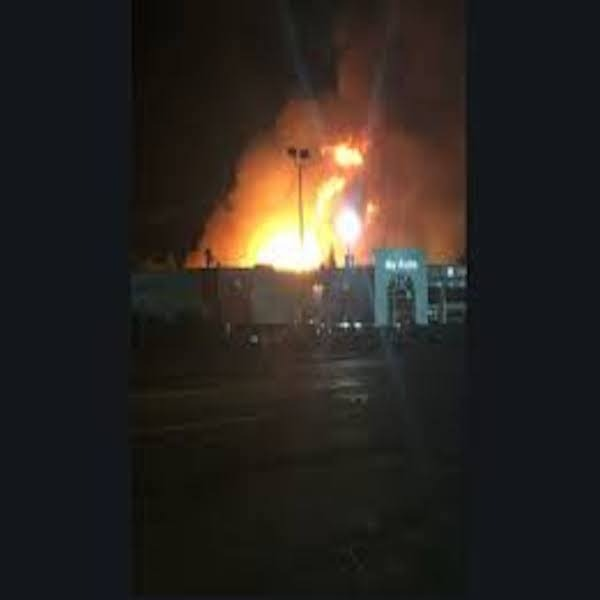fire: (240, 117, 417, 268)
